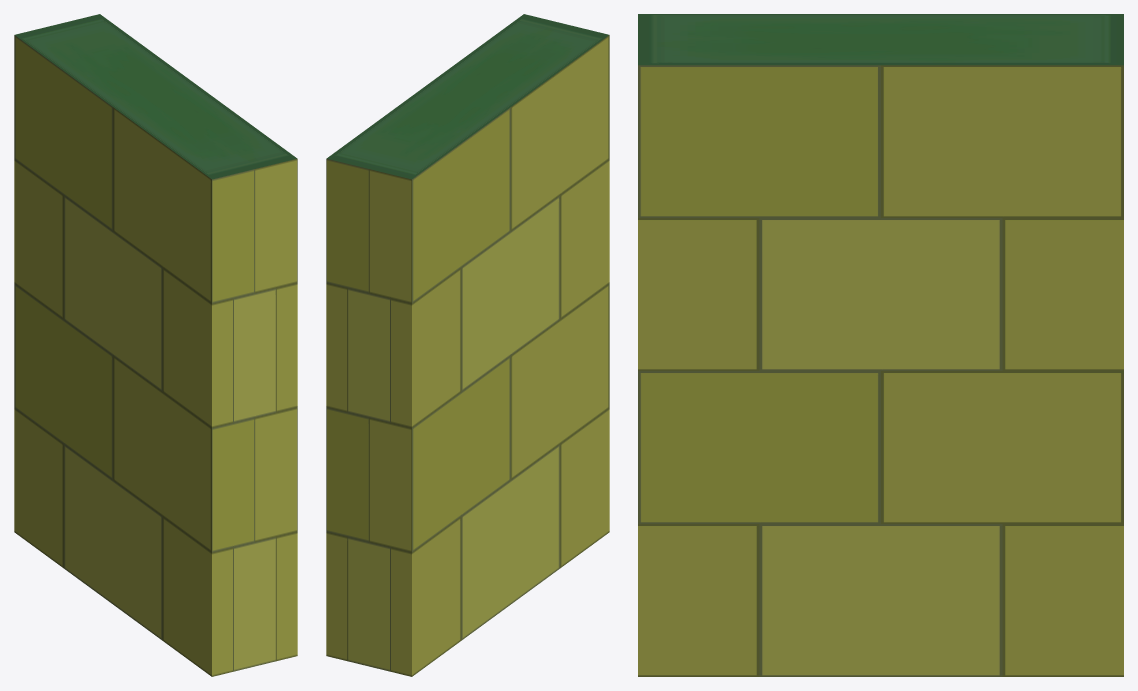
Rendered from WallBlock 234.fbx.
The picture shows the model from 3 angles, left to right: view 1: azimuth 30°, elevation 25°; view 2: azimuth 150°, elevation 25°; view 3: azimuth 270°, elevation 25°; orthographic projection. The views are drawn at different scales.
Parts seen in each view (by area): view 1: WallBlock 234; view 2: WallBlock 234; view 3: WallBlock 234.
Boxes of the visible parts, <box> form: WallBlock 234: <box>14,14,297,676</box>; WallBlock 234: <box>326,14,609,676</box>; WallBlock 234: <box>638,14,1123,676</box>.
Size of the model in its own units: 0.36 by 2 by 1.44.
